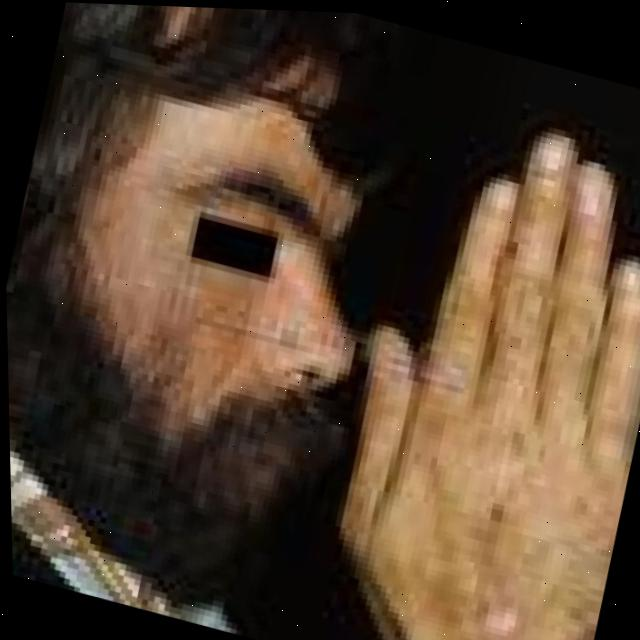Melasma: (393, 374, 633, 640), (134, 304, 211, 389)
